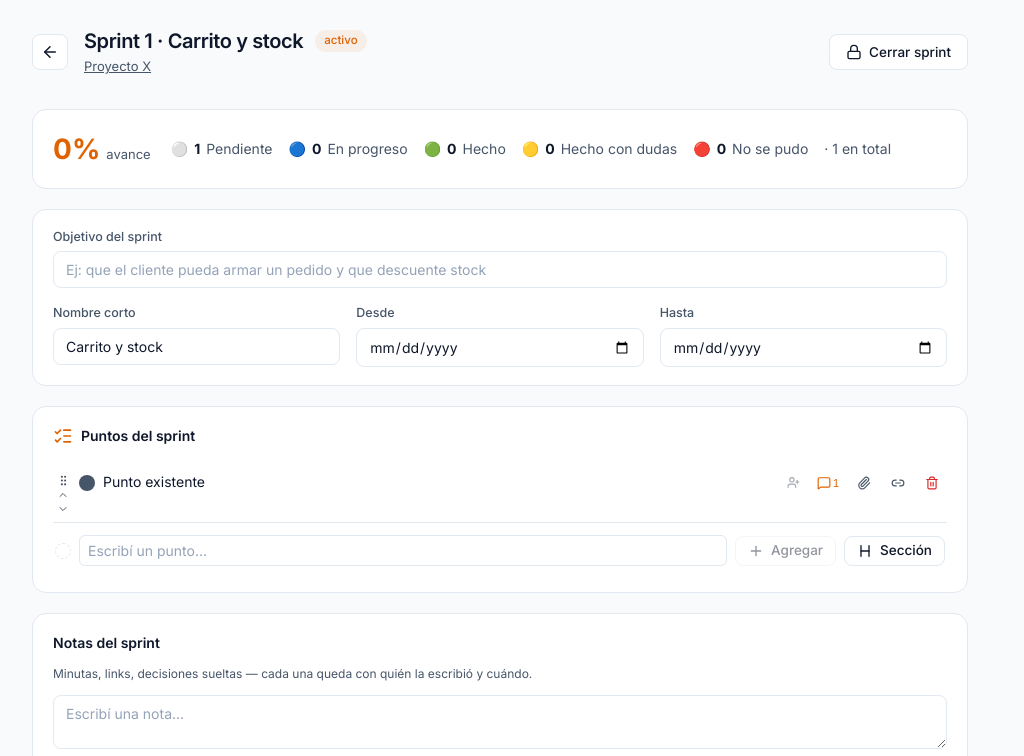
Test case: SprintDetalle — responsable y comentarios por punto › borrar un comentario propio
Click the button titled "comentario": (828, 483) left=813, top=470, right=843, bottom=496
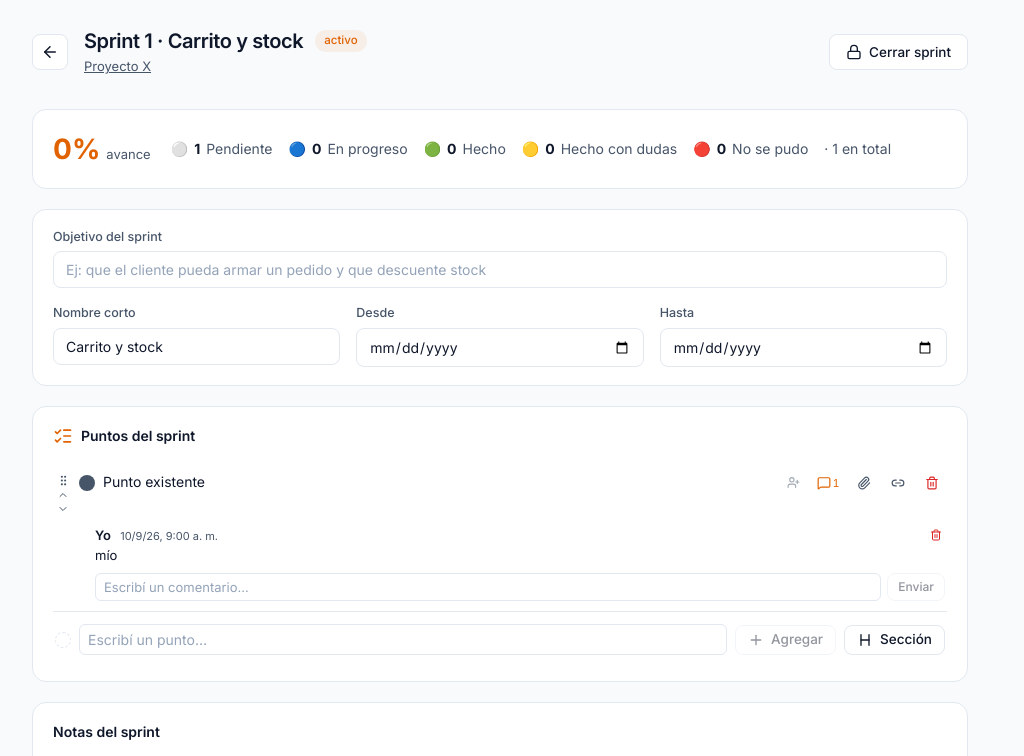
Click the button titled "Borrar": (936, 535) left=927, top=526, right=945, bottom=544
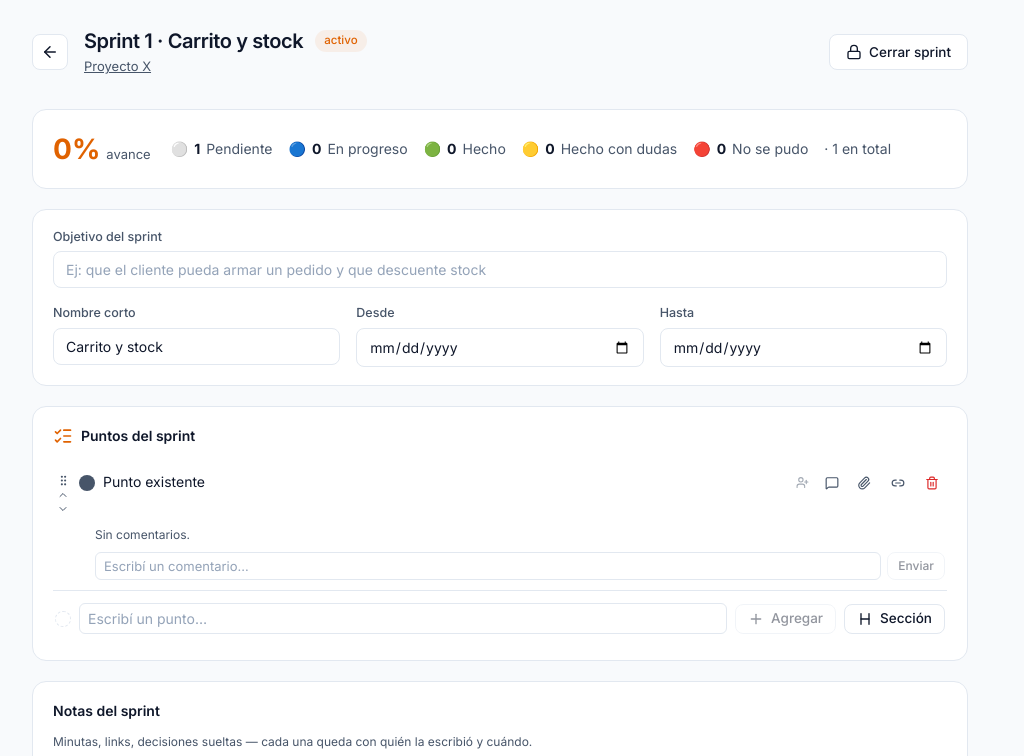
Result: the text "mío" is gone
